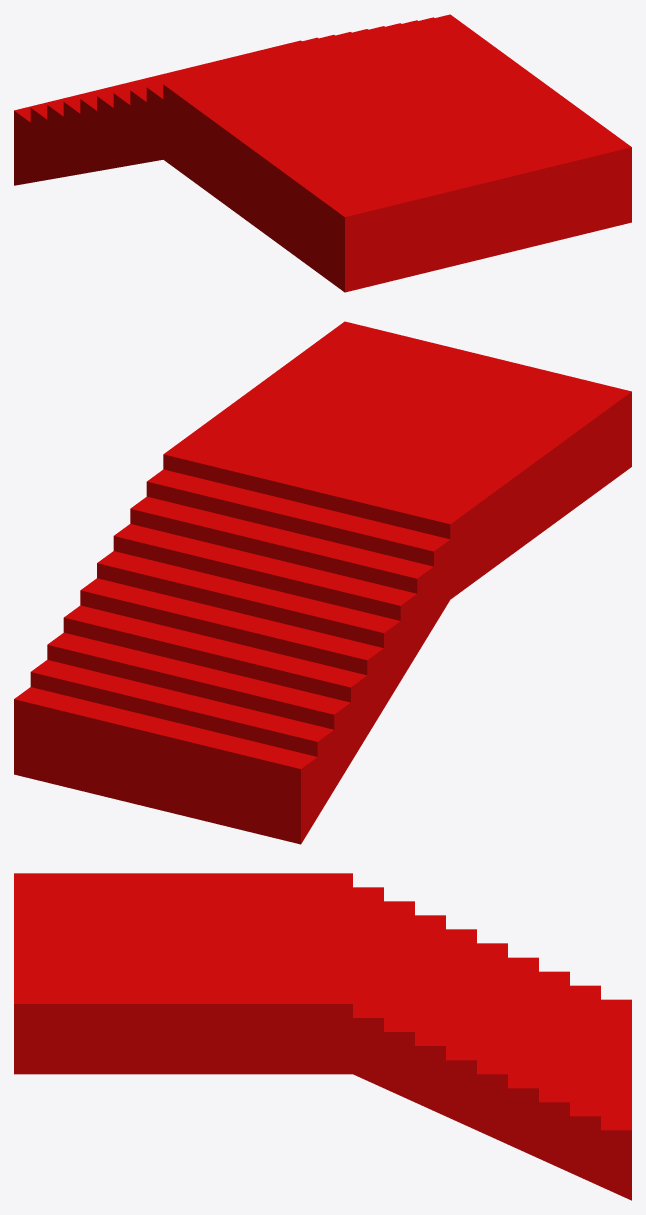
File: SM_StairsLowerCollider.fbx
3 renders of one model, top to bottom at view 1: azimuth 30°, elevation 25°; view 2: azimuth 150°, elevation 25°; view 3: azimuth 270°, elevation 25°, orthographic. The views are drawn at different scales.
Parts seen in each view (by area): view 1: StairsLowerCollision; view 2: StairsLowerCollision; view 3: StairsLowerCollision.
Part boxes in pixels (x1,y1,x2,y2): StairsLowerCollision: (14, 14, 631, 292); StairsLowerCollision: (14, 321, 631, 844); StairsLowerCollision: (14, 873, 631, 1200).
Bounding box in the file's own units: 399 × 280 × 797.
